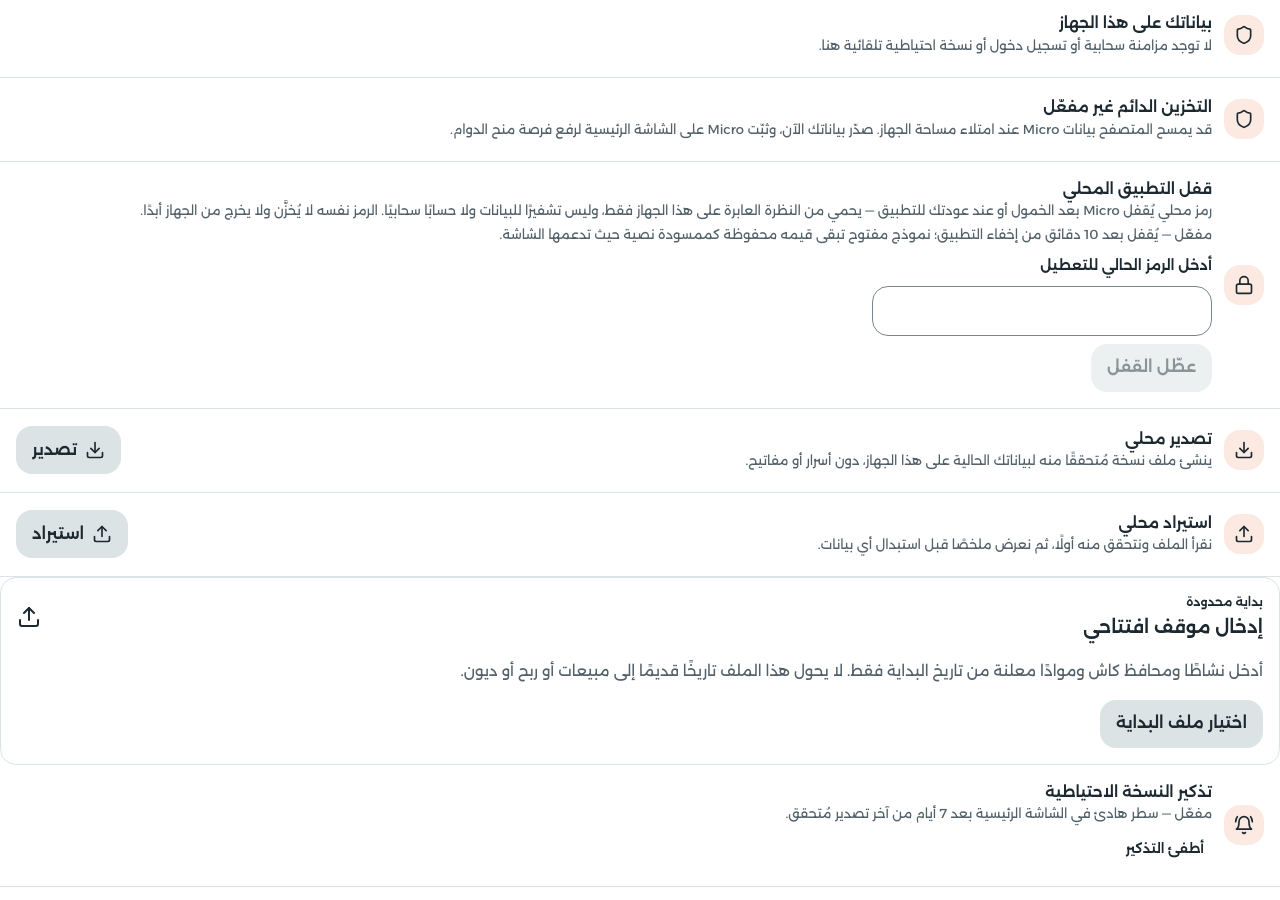
Settings data actions are gated behind the local lock (Group 6 — SP-01) › export asks for the PIN when the lock is enabled and refuses a wrong PIN
(page scrolled)
Click the button with aria-label "تصدير البيانات المحلية" at x=69, y=450, box top-left (16, 426), bottom-right (121, 474)
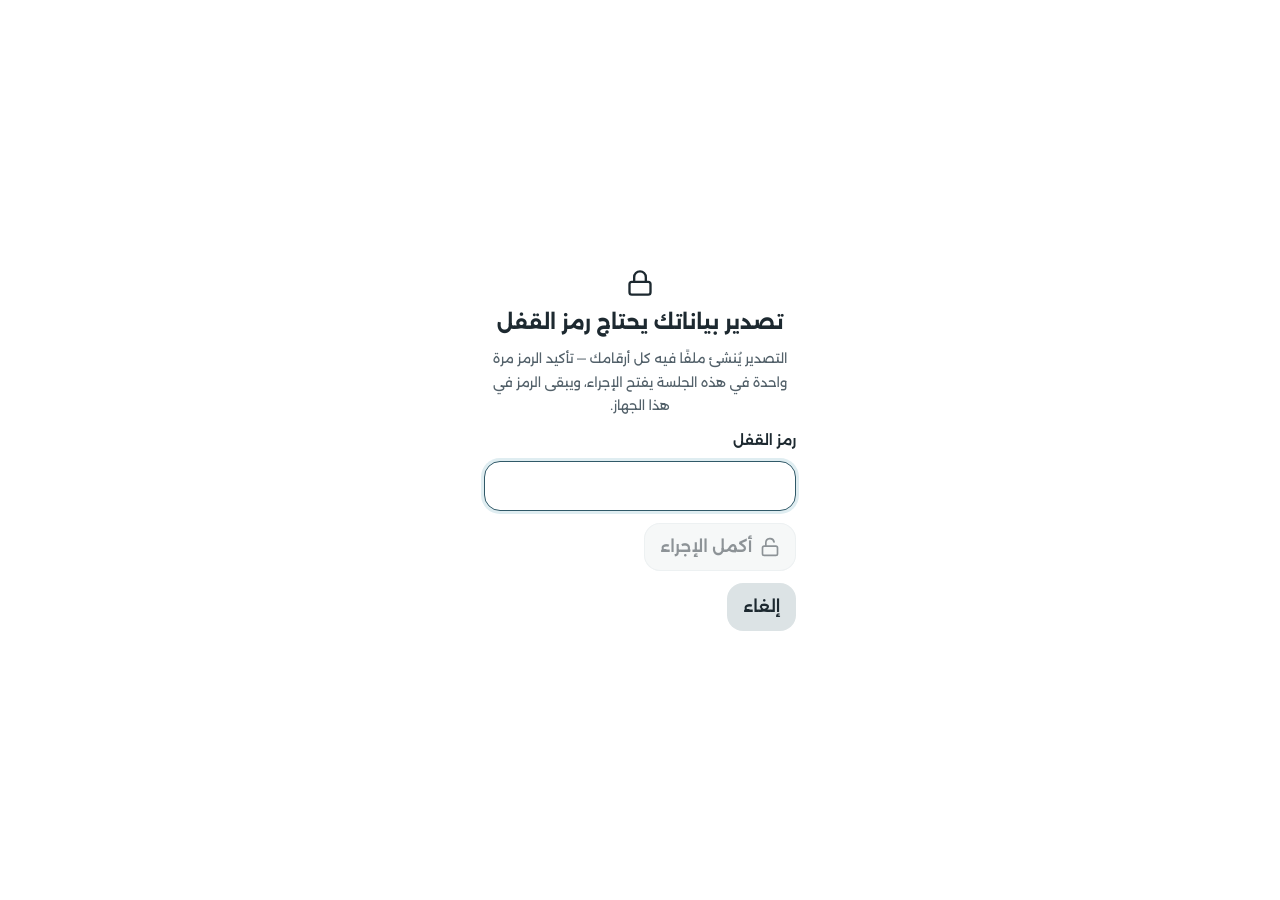
Expected: the dialog named "تأكيد رمز القفل" is shown, top-left (484, 269), bottom-right (796, 631)
Type "0000" into the password field labelled "رمز القفل" at x=640, y=486, box top-left (484, 461), bottom-right (796, 511)
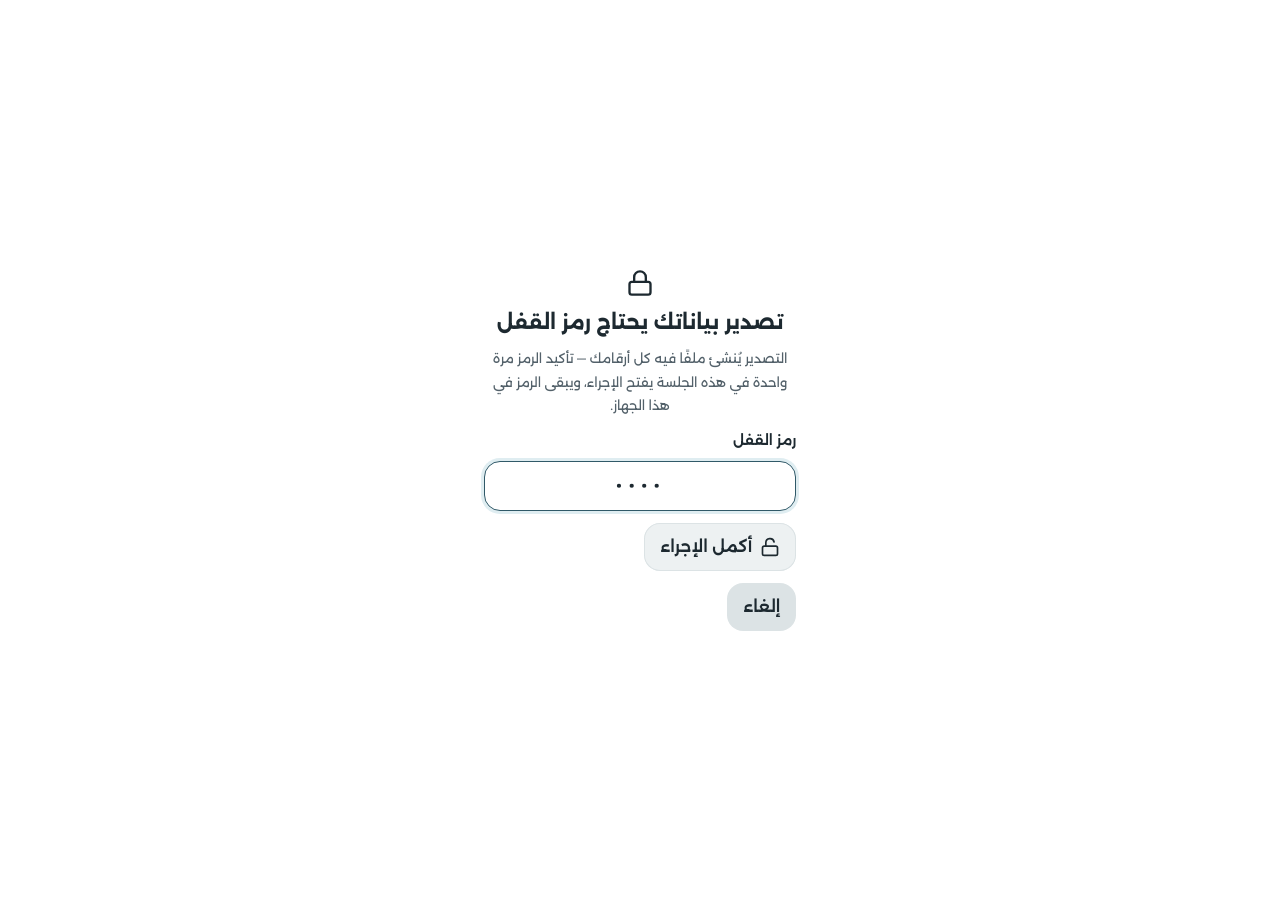
Submit the form labelled "رمز القفل", box top-left (484, 430), bottom-right (796, 631)
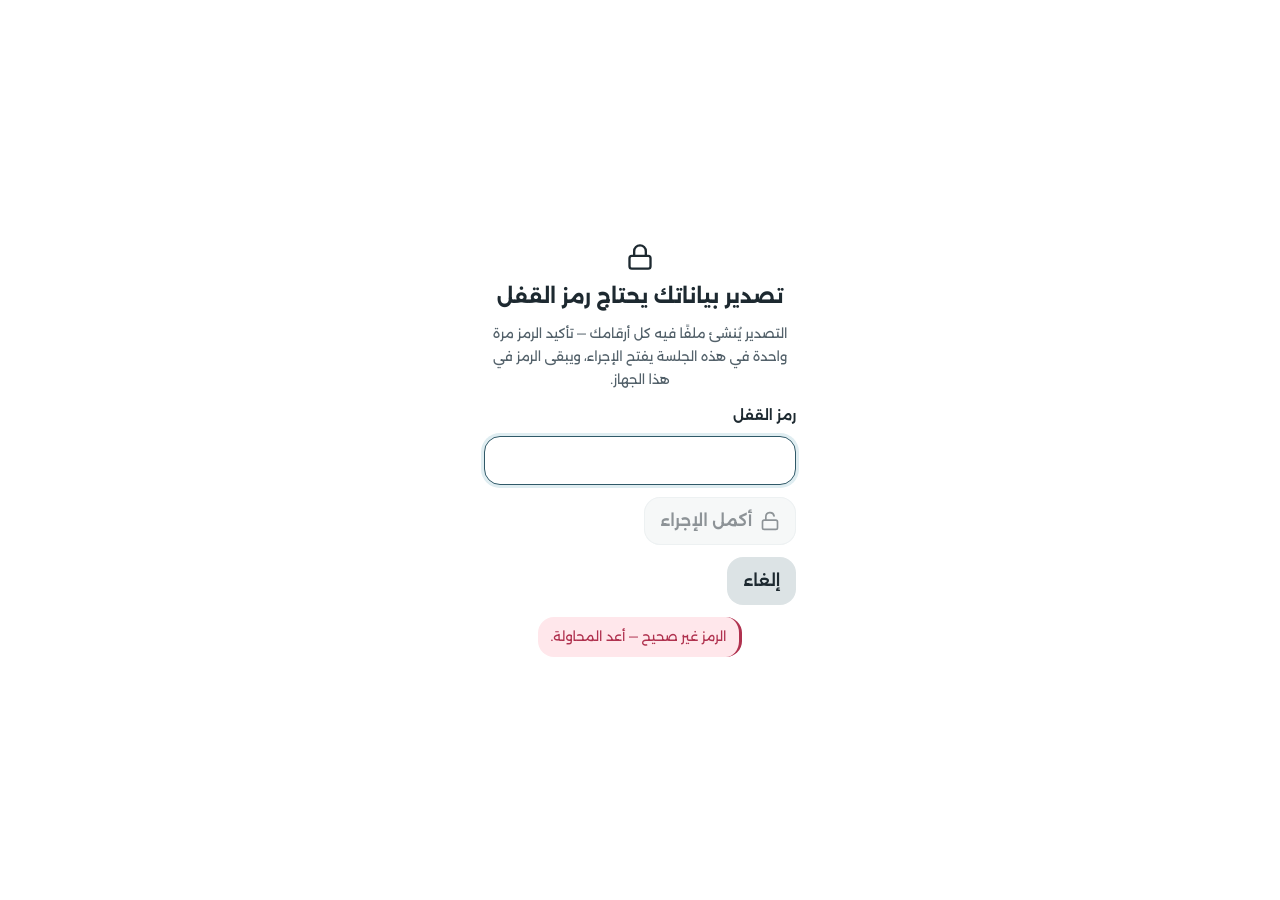
Expected: the message "الرمز غير صحيح — أعد المحاولة." is shown, top-left (538, 617), bottom-right (742, 657)
